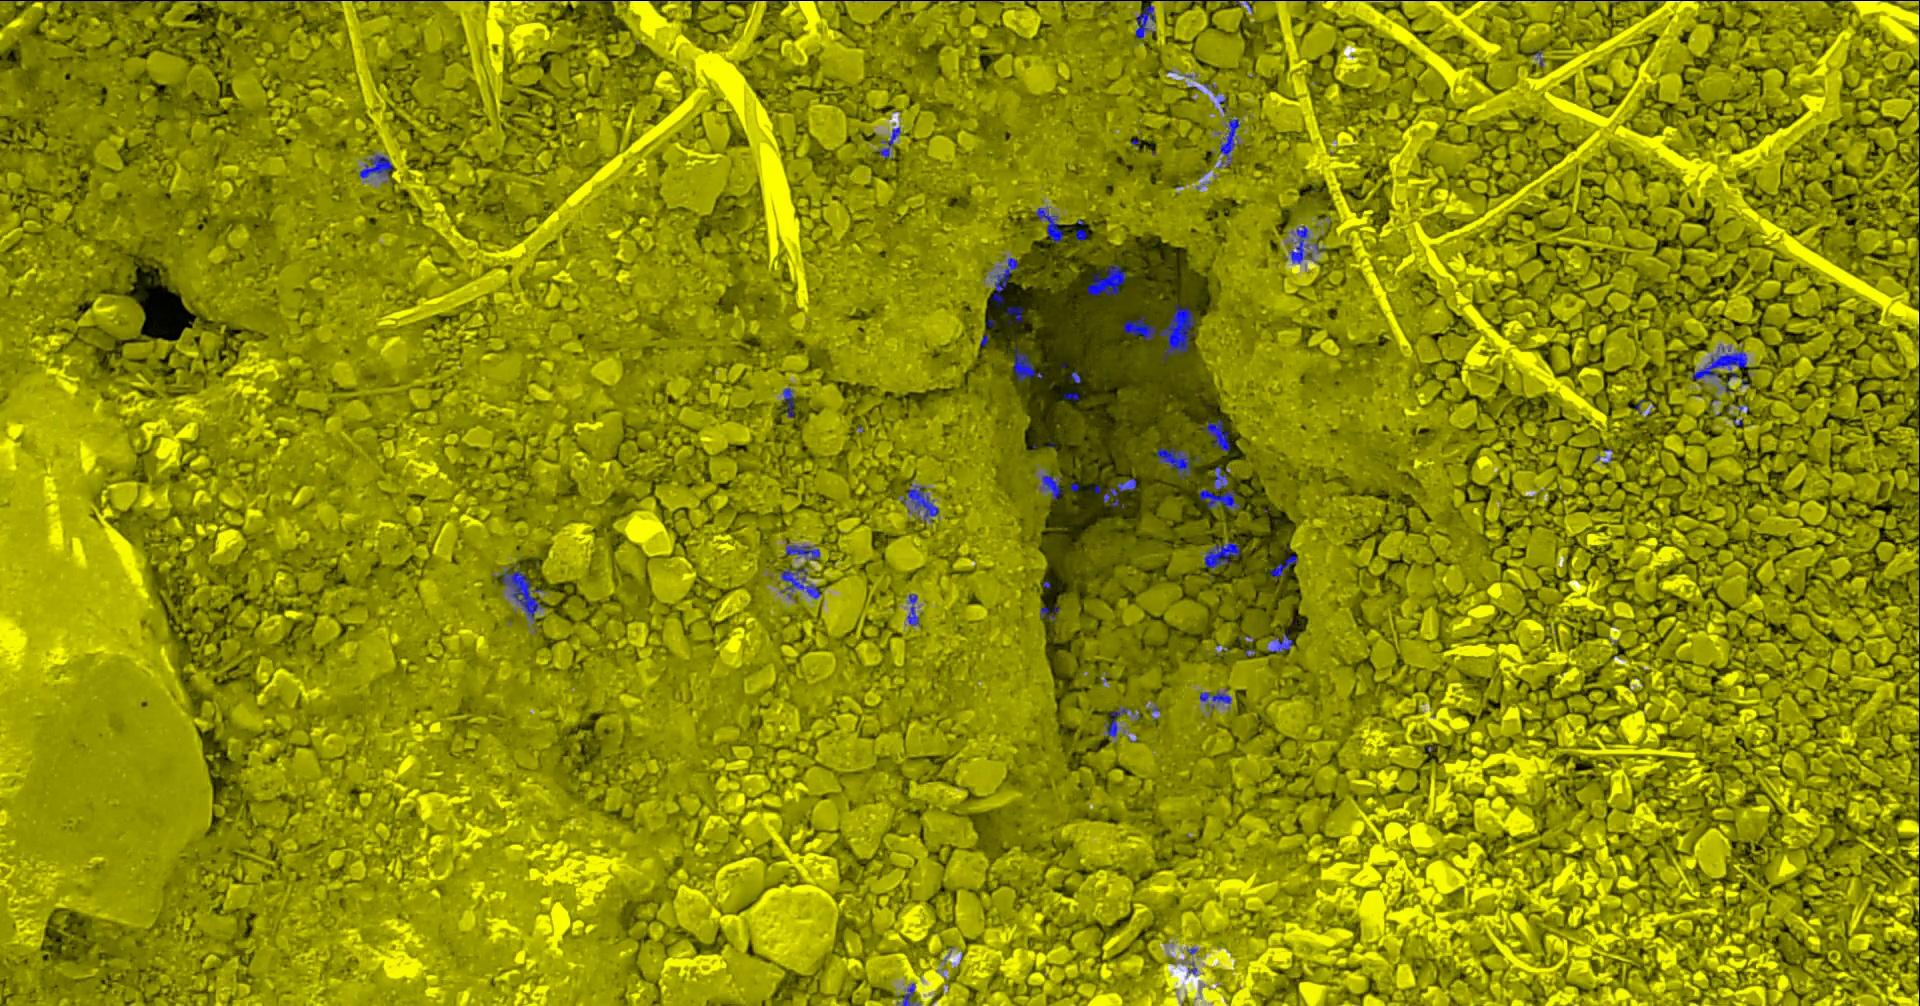ant: (1691, 345, 1746, 391), (502, 563, 542, 620), (1197, 465, 1239, 511), (1156, 445, 1201, 478), (990, 257, 1018, 306), (778, 567, 820, 598), (1086, 264, 1126, 295), (905, 484, 938, 521), (1217, 118, 1239, 166), (1012, 345, 1043, 381), (1034, 206, 1063, 243), (1203, 541, 1239, 569), (1285, 225, 1312, 263), (1102, 478, 1137, 507), (1201, 419, 1229, 451), (1134, 0, 1156, 39), (359, 152, 392, 177), (1103, 708, 1131, 735), (876, 127, 900, 158), (1269, 554, 1297, 577), (1199, 688, 1230, 708), (1039, 474, 1063, 498), (785, 544, 819, 559), (1269, 630, 1291, 652), (897, 983, 919, 1005), (907, 593, 919, 625), (1004, 305, 1022, 324), (782, 387, 794, 417), (1039, 605, 1059, 620), (1074, 218, 1086, 240), (1063, 391, 1079, 400)
